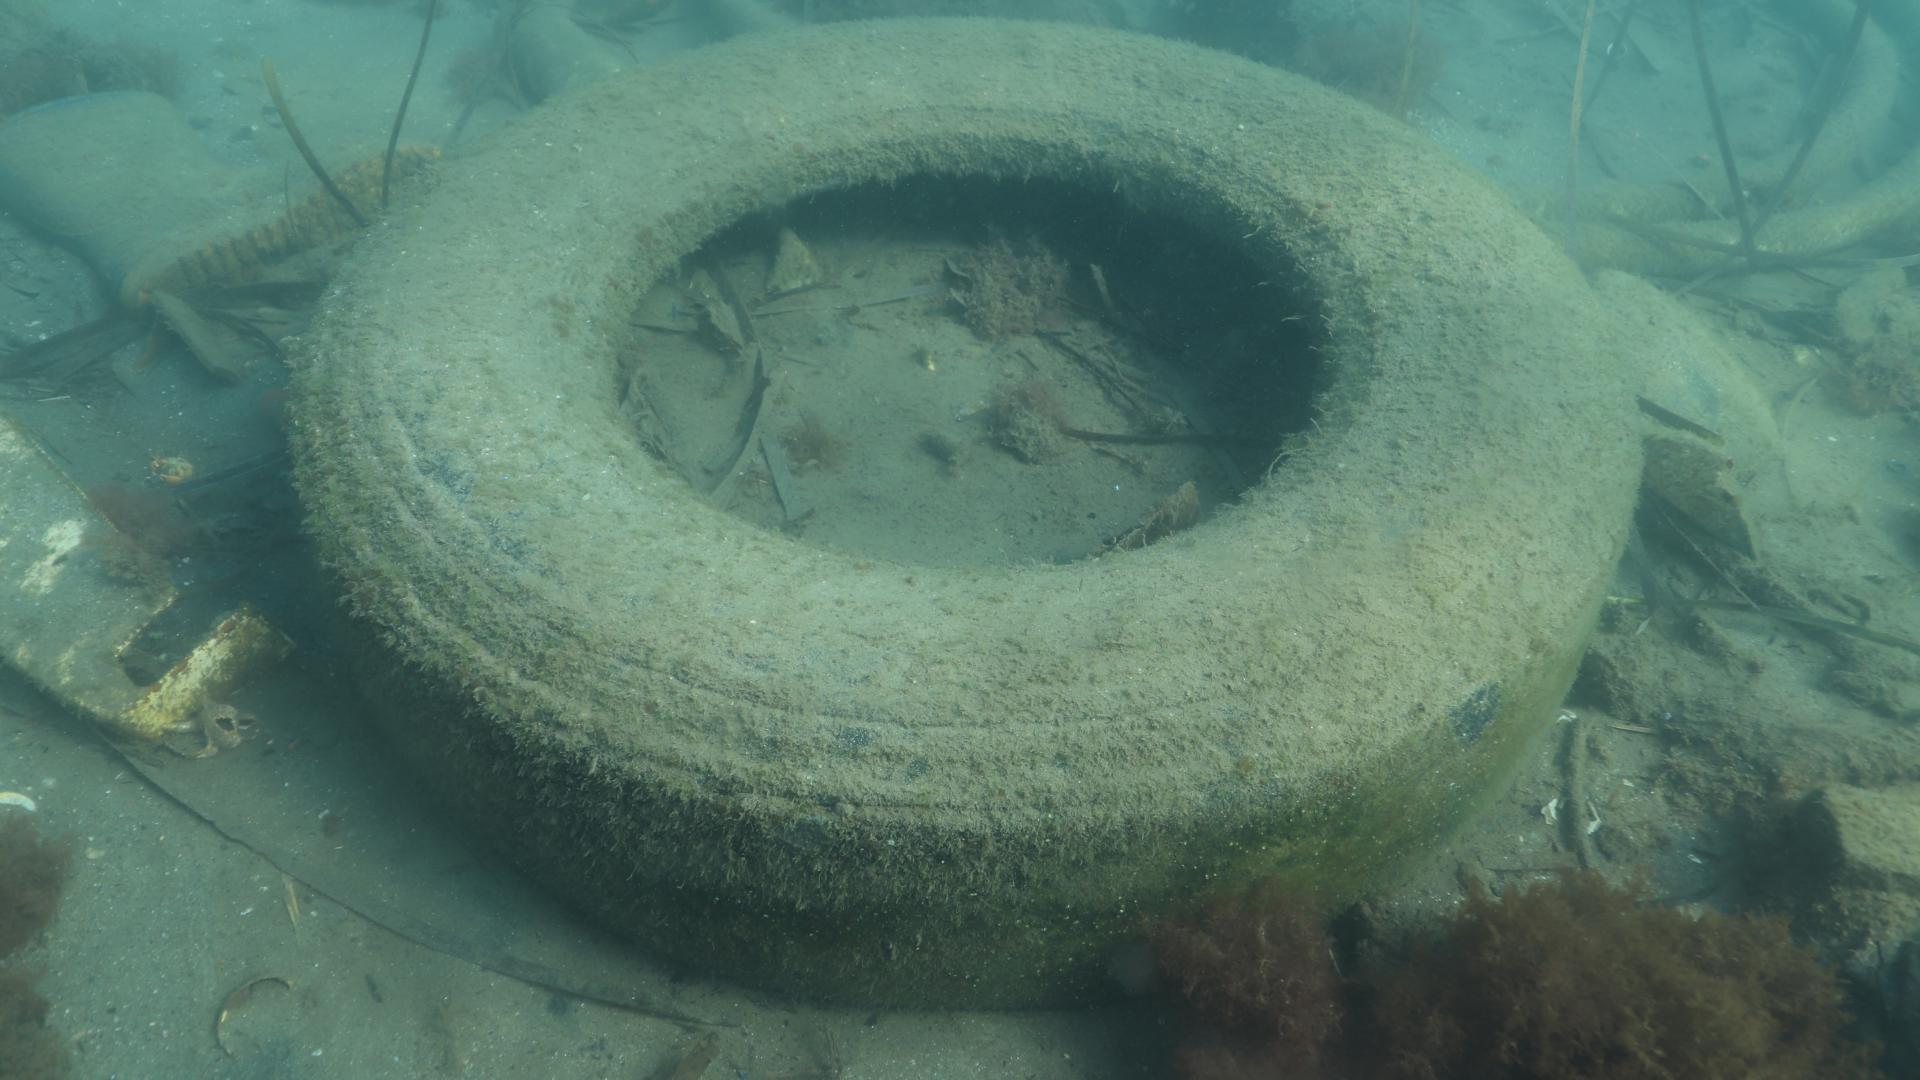tire: (284, 15, 1648, 1000)
